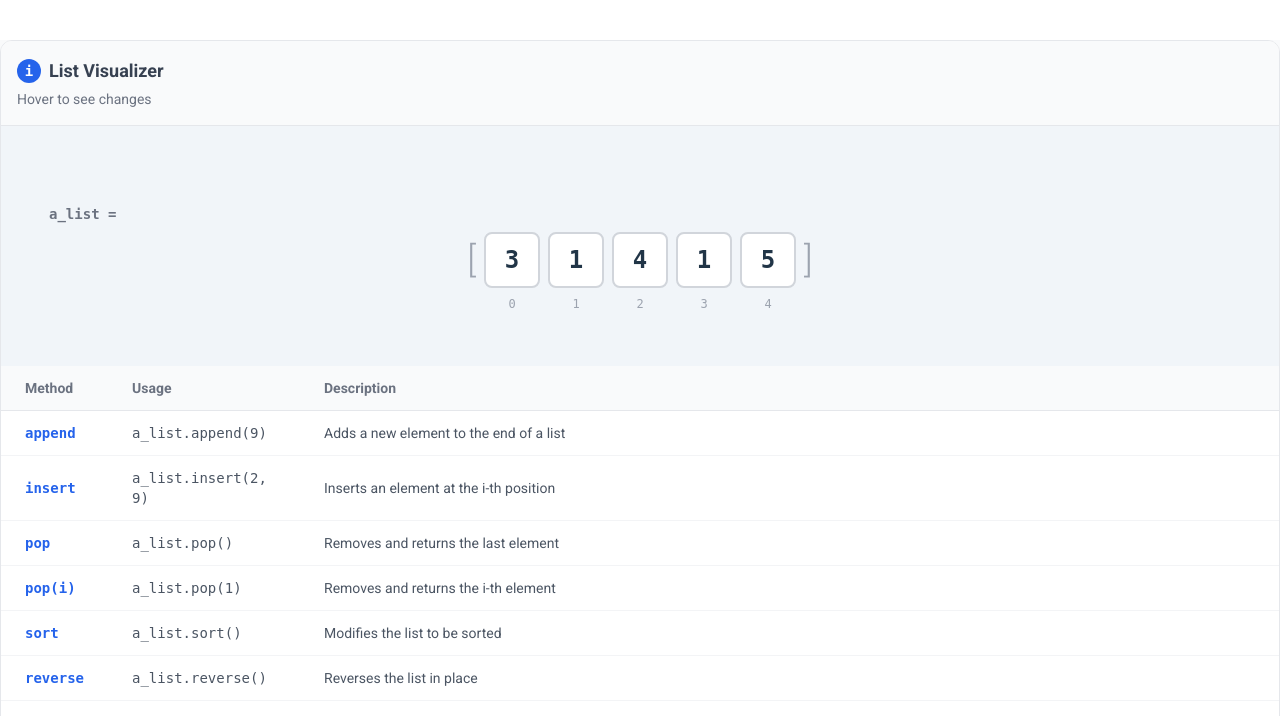
Test: InteractiveListVisualizer Component › should show return value bubble for pop
The width and height of the screenshot is (1280, 716).
Hover over the text "a_list.pop()": {"x": 640, "y": 543} [1,520,1279,566]
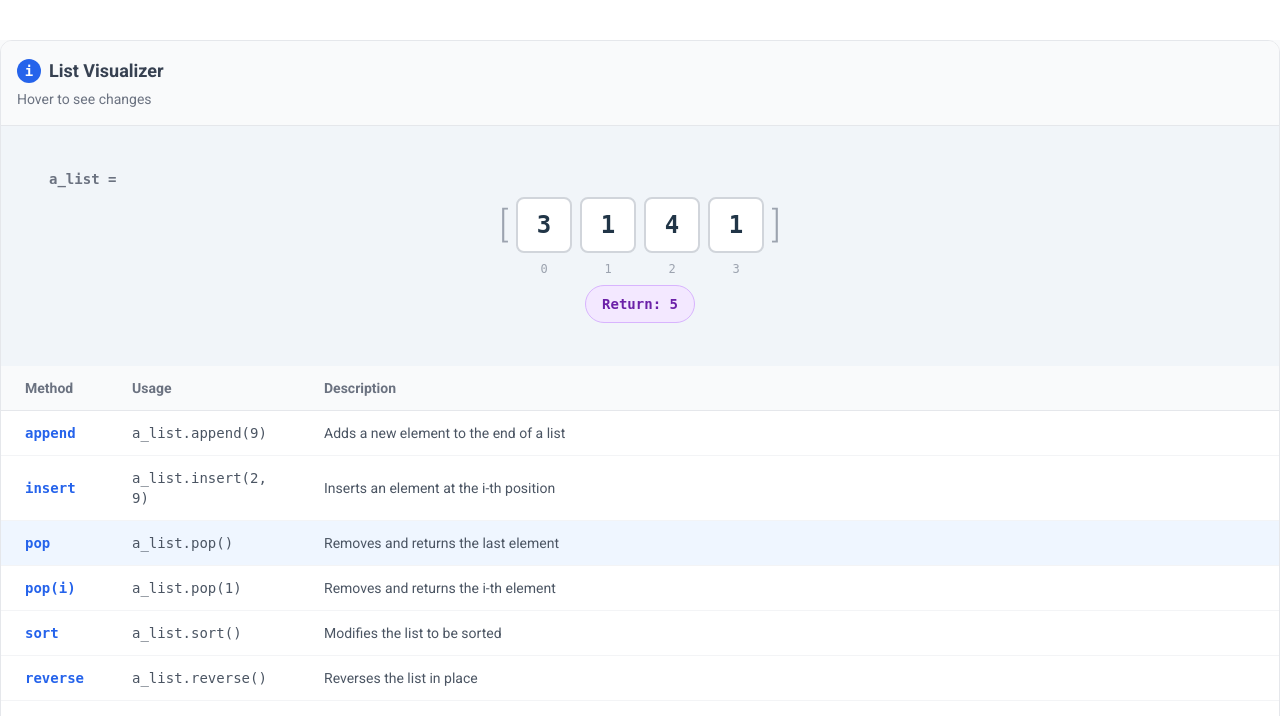
expect the text "Return: 5" is shown: met, box [585,285,695,323]
